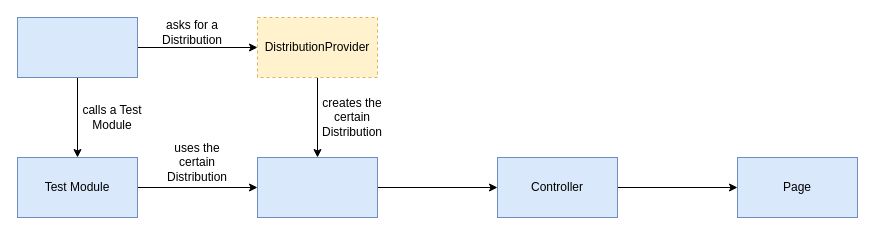
This 875x235 diagram has some shape labels left out. The shapes that lost their labels are listed below. From the top down, each one's centre as x and y in pixels, then its label:
At (x=77, y=47): "main.pm".
At (x=317, y=187): "Distribution".
